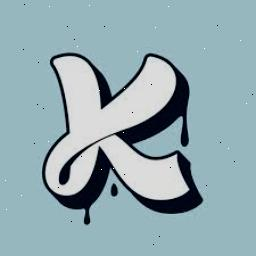k: (32, 32, 218, 220)
